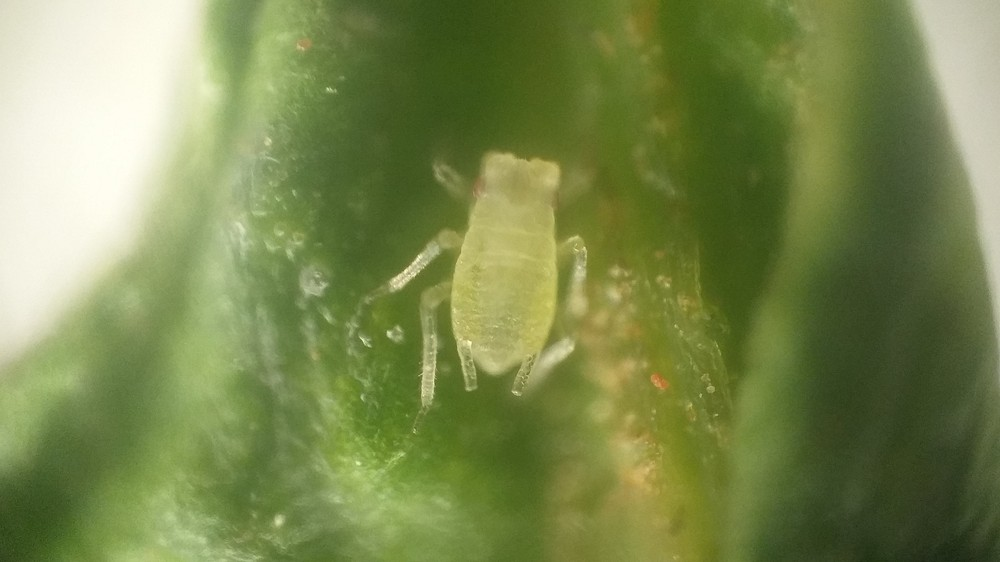Pulgon: (367, 135, 621, 429)
